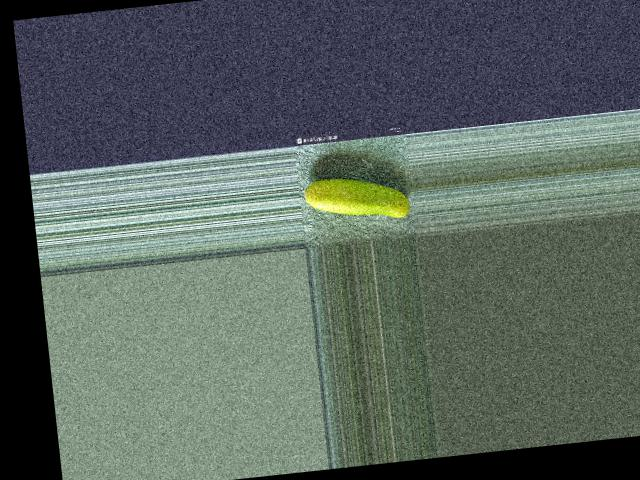cucumber: (303, 170, 411, 227)
